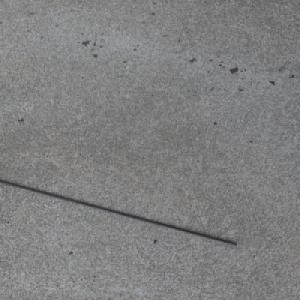LuggagePart: (0, 178, 238, 245)
